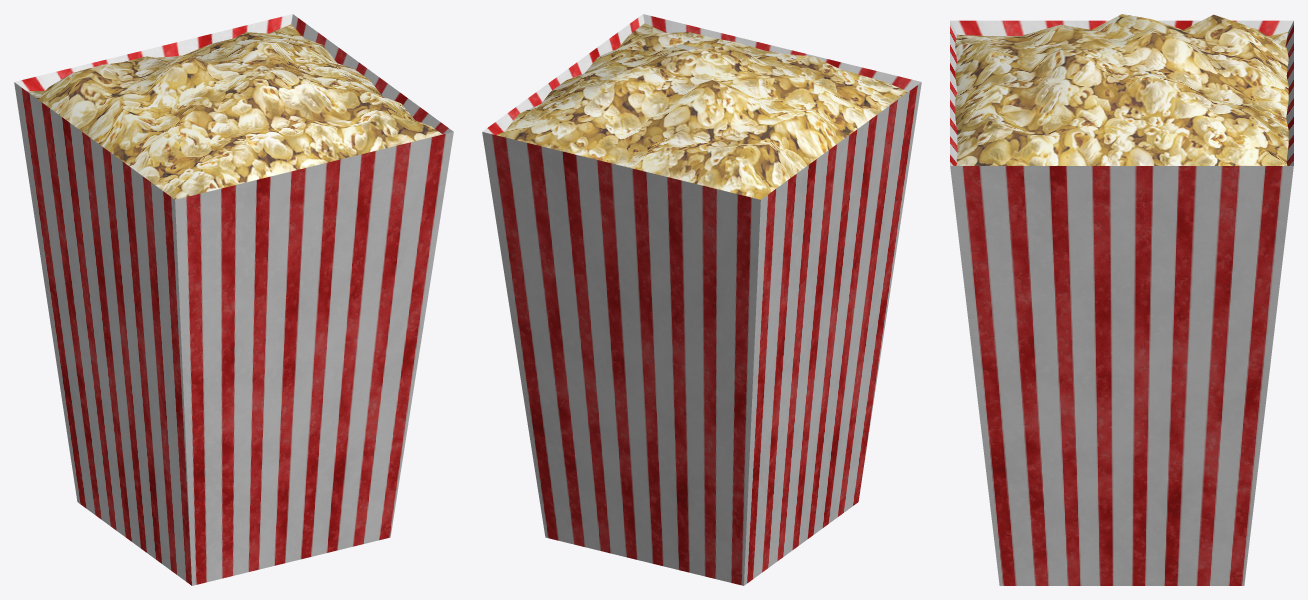
The model's file is popcorn_bucket.glb.
3 views of the same model, side by side, from view 1: azimuth 30°, elevation 25°; view 2: azimuth 150°, elevation 25°; view 3: azimuth 270°, elevation 25° (orthographic). The views are drawn at different scales.
Parts seen in each view (by area): view 1: Popcorn; view 2: Popcorn; view 3: Popcorn.
Part boxes in pixels (x1,y1,x2,y2): Popcorn: (14, 14, 453, 585); Popcorn: (482, 14, 921, 585); Popcorn: (950, 14, 1293, 585).
Size of the model in its own units: 0.2153 by 0.3367 by 0.2153.
1 material, 1 textured.
